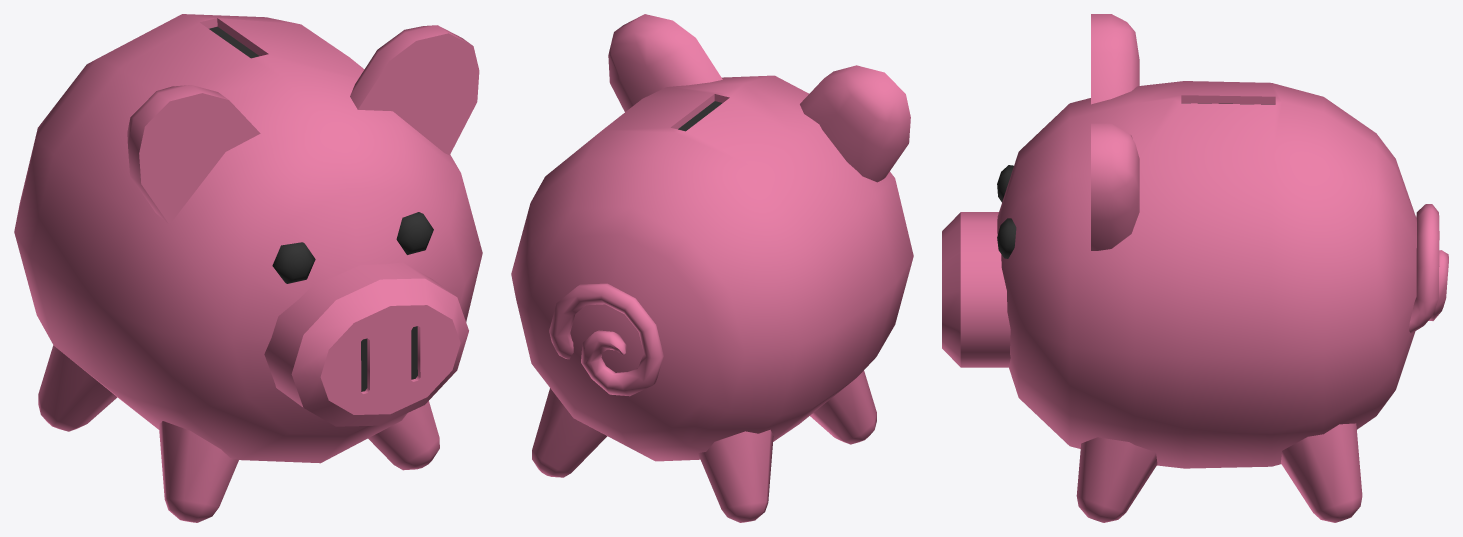
Rendered from PiggyBank_01.fbx.
3 views of the same model, side by side, from view 1: azimuth 30°, elevation 25°; view 2: azimuth 150°, elevation 25°; view 3: azimuth 270°, elevation 25° (orthographic). The views are drawn at different scales.
Visible parts, largest first — view 1: PiggyBank_01; view 2: PiggyBank_01; view 3: PiggyBank_01.
Boxes of the visible parts, box(x1,y1,x2,y2) form: PiggyBank_01: box(14, 14, 482, 522); PiggyBank_01: box(511, 14, 913, 522); PiggyBank_01: box(942, 14, 1448, 522).
Bounding box in the file's own units: 0.2262 × 0.2552 × 0.2964.
